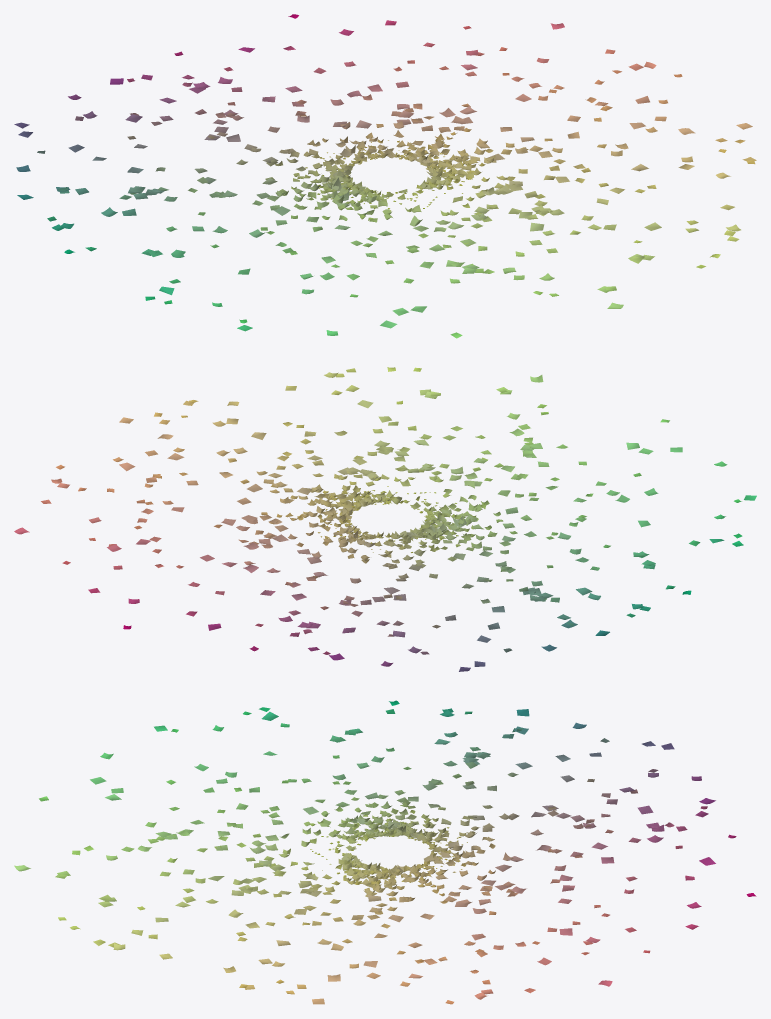
Rendered from slab-fall.glb.
3 renders of one model, top to bottom at view 1: azimuth 30°, elevation 25°; view 2: azimuth 150°, elevation 25°; view 3: azimuth 270°, elevation 25°, orthographic. The views are drawn at different scales.
Parts seen in each view (by area): view 1: leaves; view 2: leaves; view 3: leaves.
Boxes of the visible parts, x1,y1,x2,y2 form: leaves: (14,14,756,338); leaves: (14,367,756,671); leaves: (14,700,756,1004).
Bounding box in the file's own units: 1124 × 13.96 × 1163.
